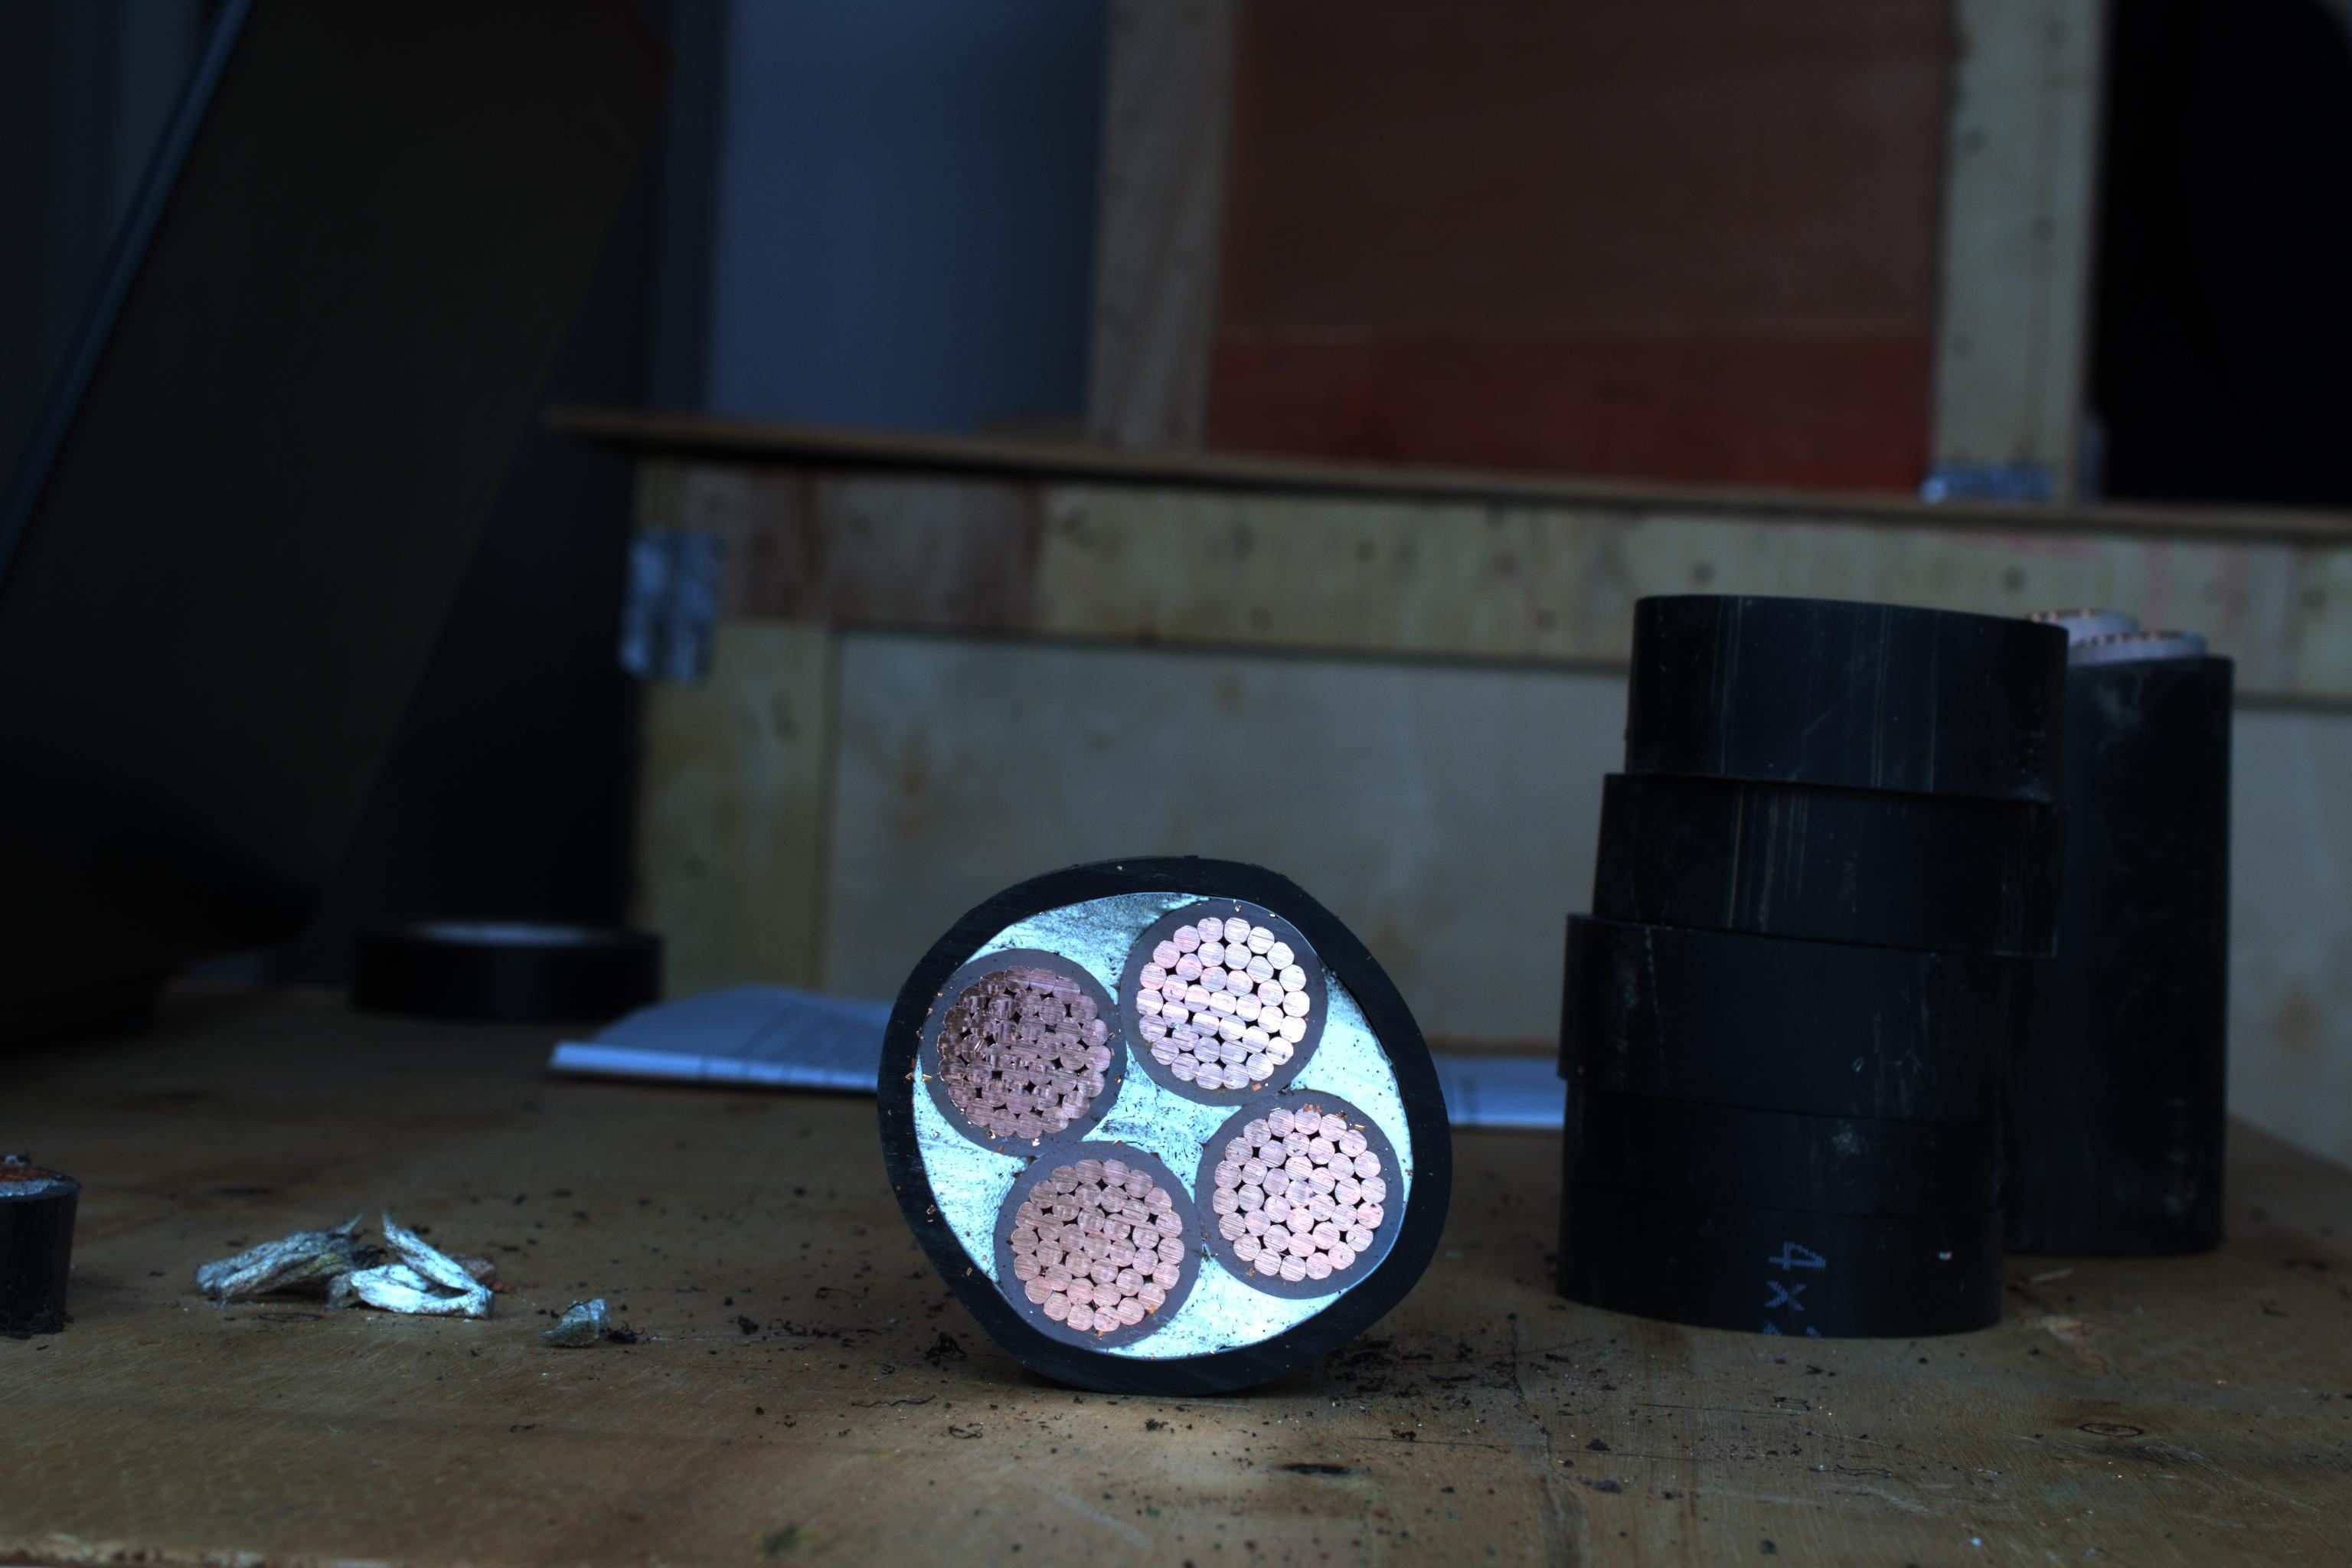YJV_0.6_1kV_4x240: (894, 859, 1444, 1363)
